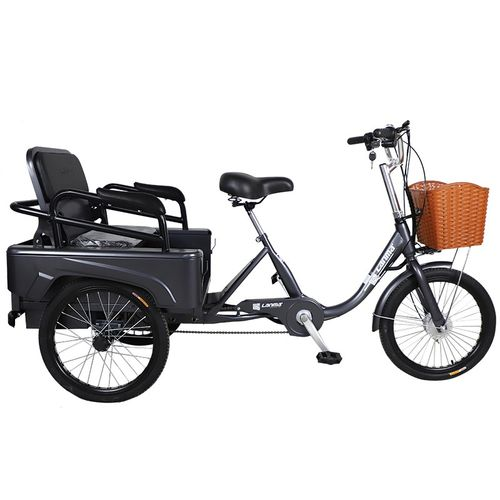empty: (10, 120, 496, 403)
